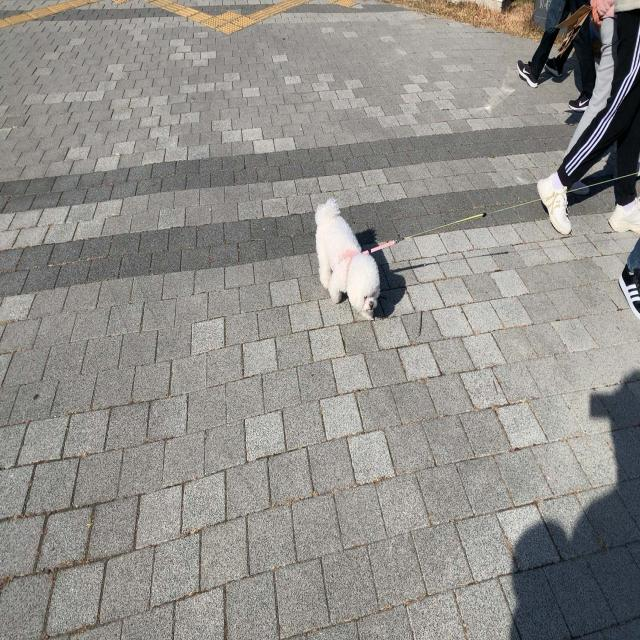Dog: (314, 197, 381, 322)
